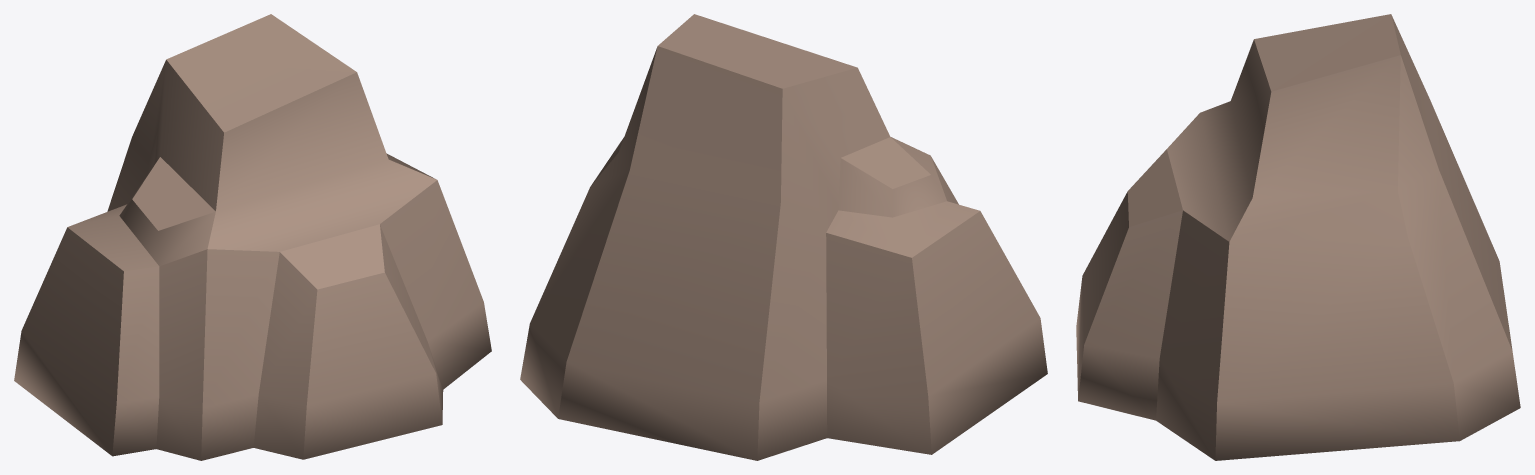
Rendered from Rock1.fbx.
3 views of the same model, side by side, from view 1: azimuth 30°, elevation 25°; view 2: azimuth 150°, elevation 25°; view 3: azimuth 270°, elevation 25° (orthographic). The views are drawn at different scales.
Visible parts, largest first — view 1: Plane.009; view 2: Plane.009; view 3: Plane.009.
Part boxes in pixels (x1,y1,x2,y2): Plane.009: (14,14,491,460); Plane.009: (520,14,1047,460); Plane.009: (1076,14,1520,460).
Size of the model in its own units: 632 by 474 by 571.
